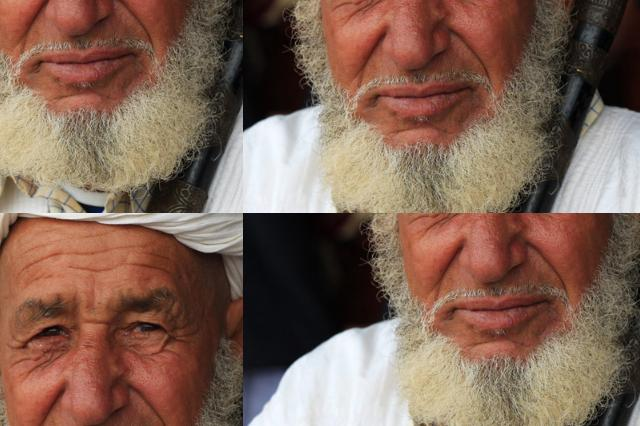chin: (465, 336, 497, 348), (329, 124, 353, 139)
crows_feet: (286, 13, 302, 37), (418, 22, 434, 38), (405, 213, 432, 222)
forehead: (0, 238, 19, 266), (0, 219, 10, 239)
frown_line: (342, 0, 354, 12), (355, 0, 364, 7)
gummy_smile: (68, 173, 105, 213), (526, 240, 566, 276), (437, 244, 461, 288), (310, 64, 330, 106), (377, 66, 397, 100)
sad_smile: (299, 112, 317, 140), (390, 117, 402, 137)
